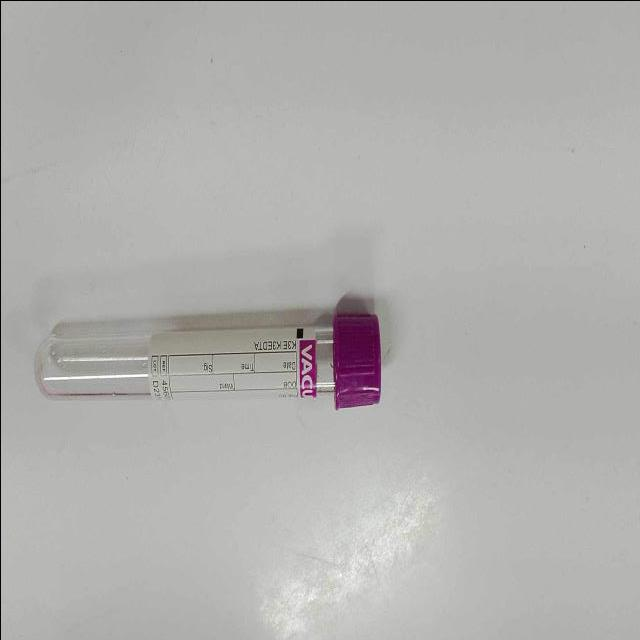Sharps: (32, 311, 381, 410)
